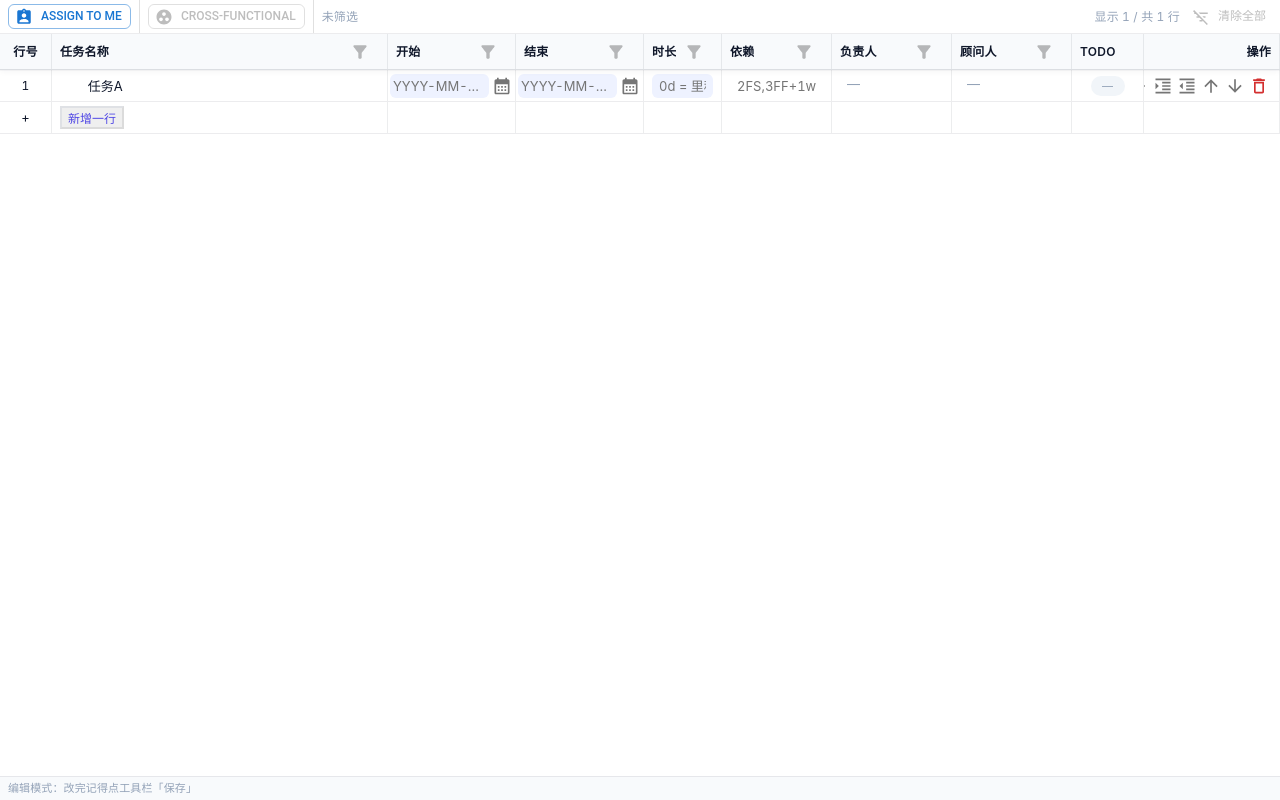
Scenario: U02 人员单元格 › Esc 关闭编辑器（回归：MUI 在 Escape 上 stopPropagation，冒泡监听收不到）
The width and height of the screenshot is (1280, 800).
Click the 1st element titled "点击设置负责人" at coordinates (854, 84), box 847,76 -> 860,92
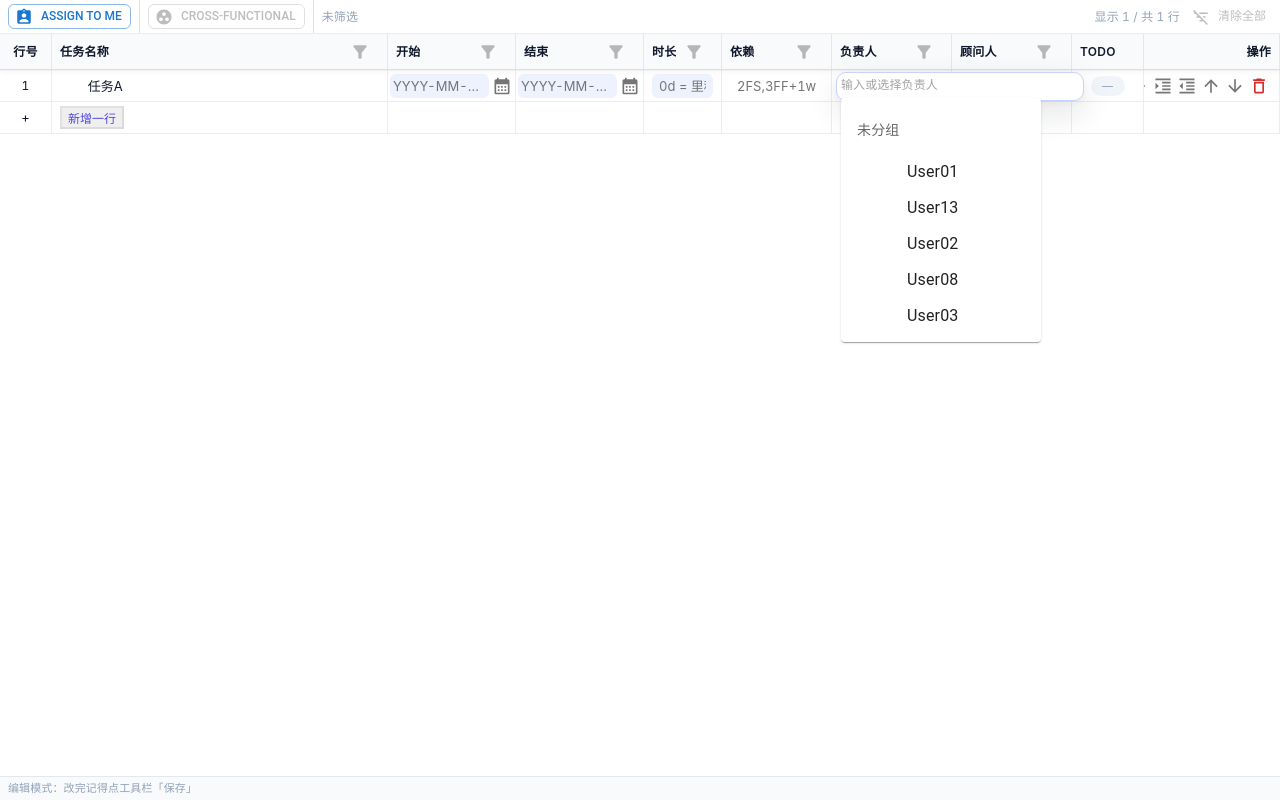
Press Escape in the dropdown with placeholder "输入或选择负责人", box 841,74 -> 1079,97
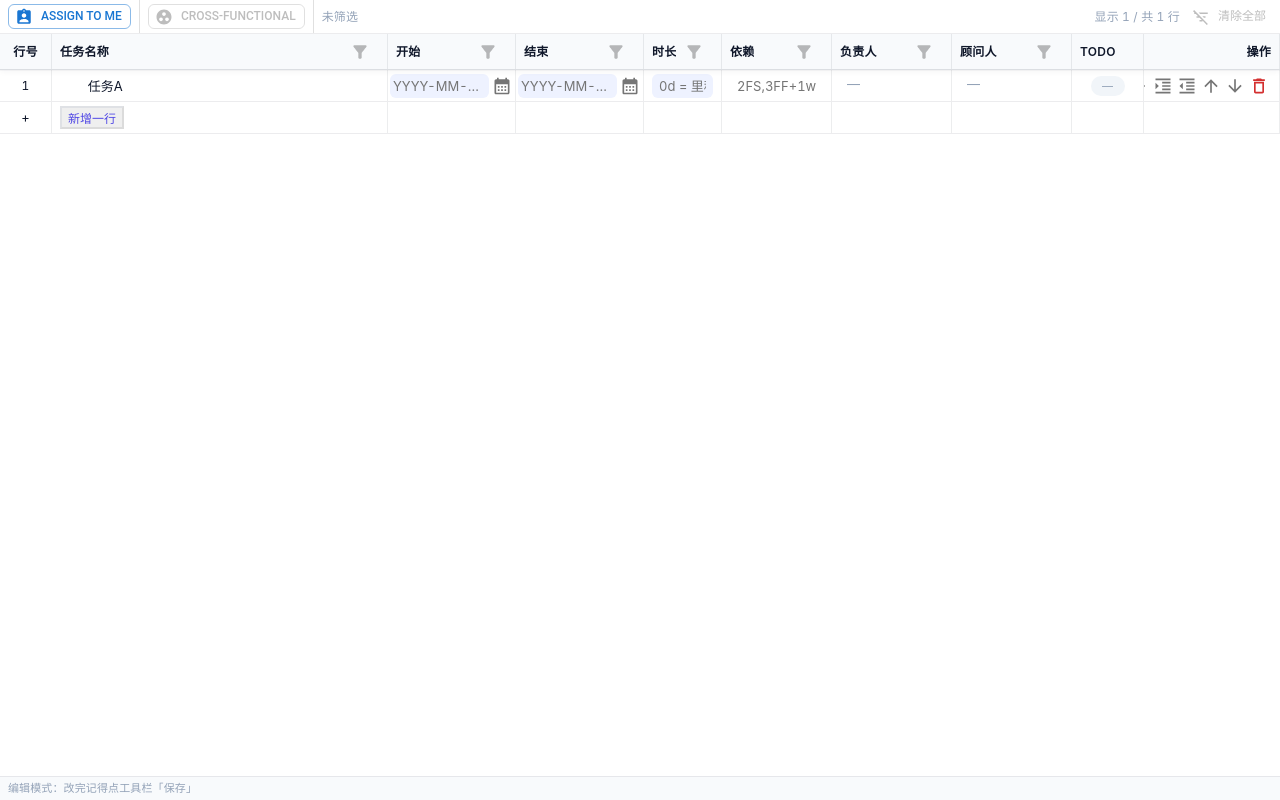
Expected: the 1st element titled "点击设置负责人" is shown, 847,76 -> 860,92
